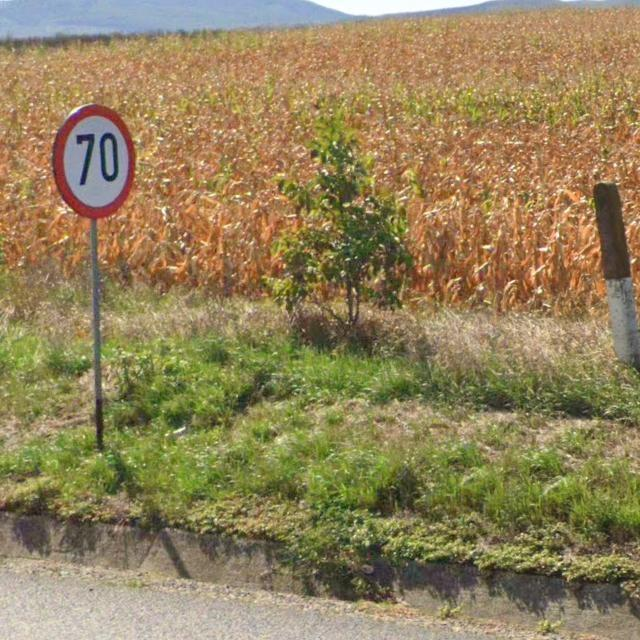forb_speed_over_70: (51, 100, 138, 219)
